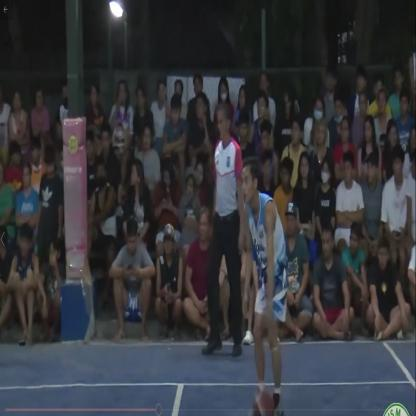basketball: (251, 387, 274, 416)
